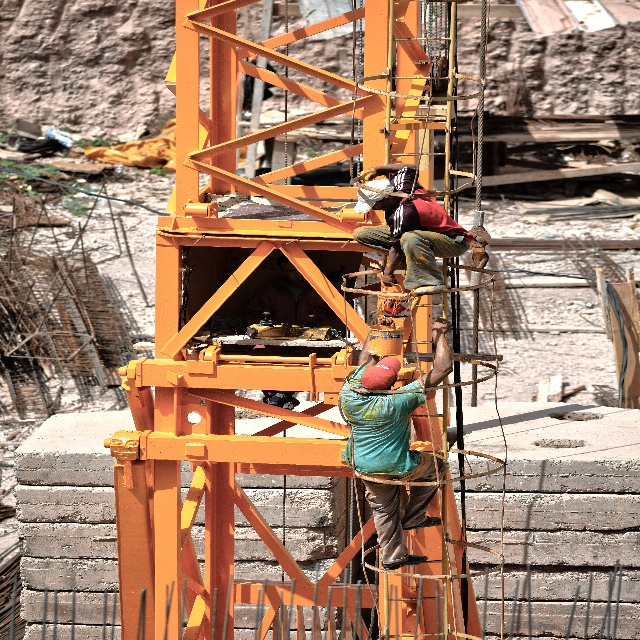Sin_guantes: (431, 314, 452, 337), (373, 314, 399, 328), (381, 272, 400, 287), (359, 166, 377, 181)
